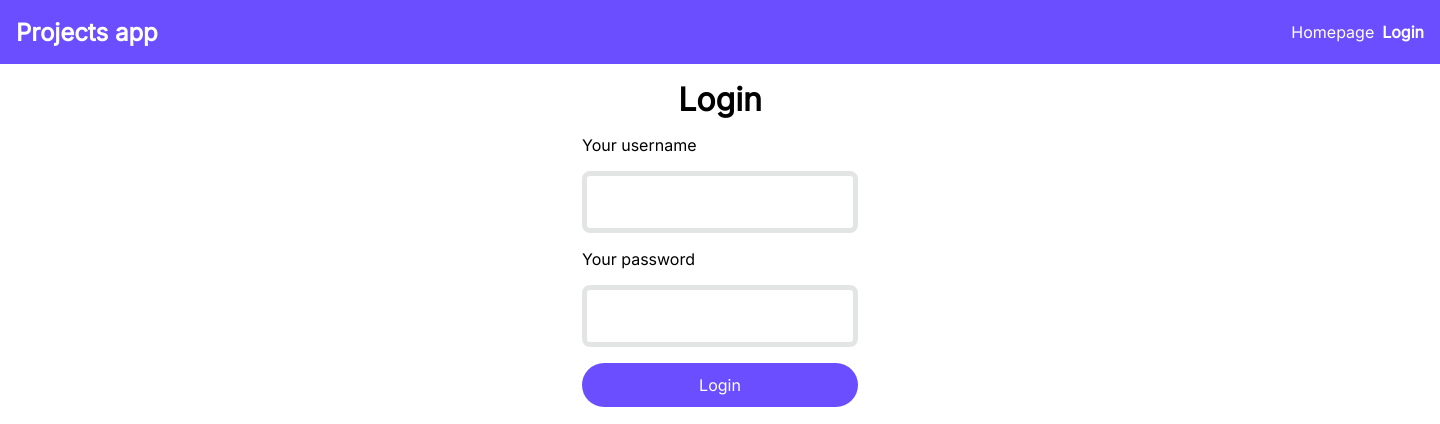
it: Given a Layout component › When the user is not logged in › And he clicks on navigation link 'Homepage' › Then it should show a level 1 heading with 'Home Page' inside
This screenshot has width=1440, height=424.
What coordinates should you click on to do the following:
click the link "Homepage"
I would click on:
 (1333, 32)
Its box is x1=1291 y1=22 x2=1374 y2=42.
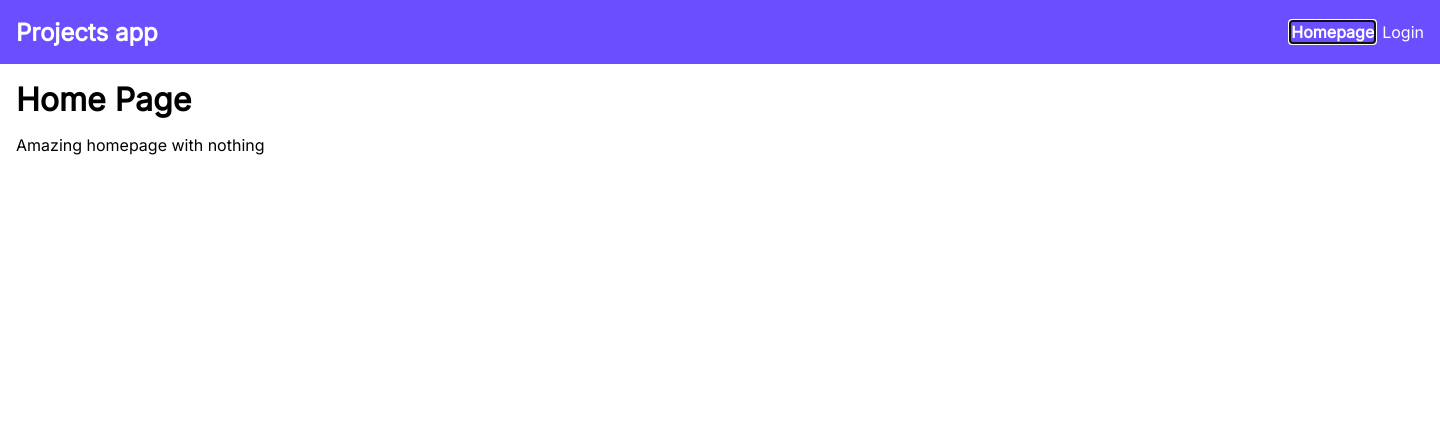
Expected: the heading "Home Page" is shown, x1=16 y1=80 x2=191 y2=119
